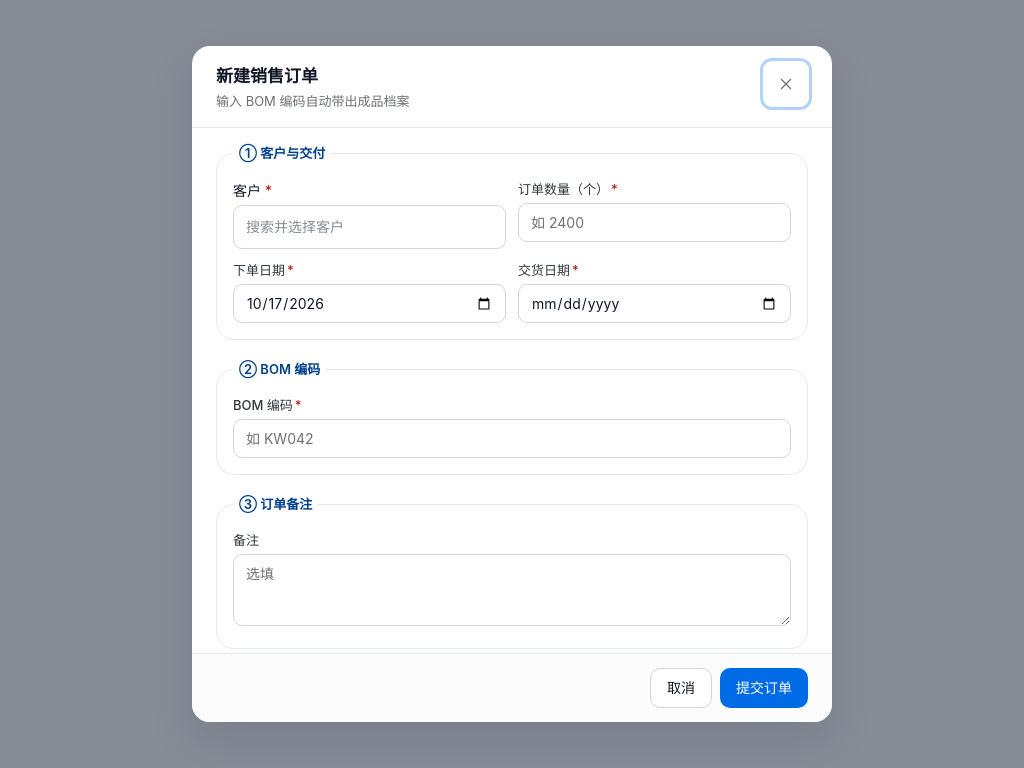
Test: 编码失配：输入即出现中性核对提示，提交被拦截且不发起请求
Type "KW9999" into the field labelled "BOM 编码*".
click(512, 439); type("KW9999")  # box 233,419 -> 791,458
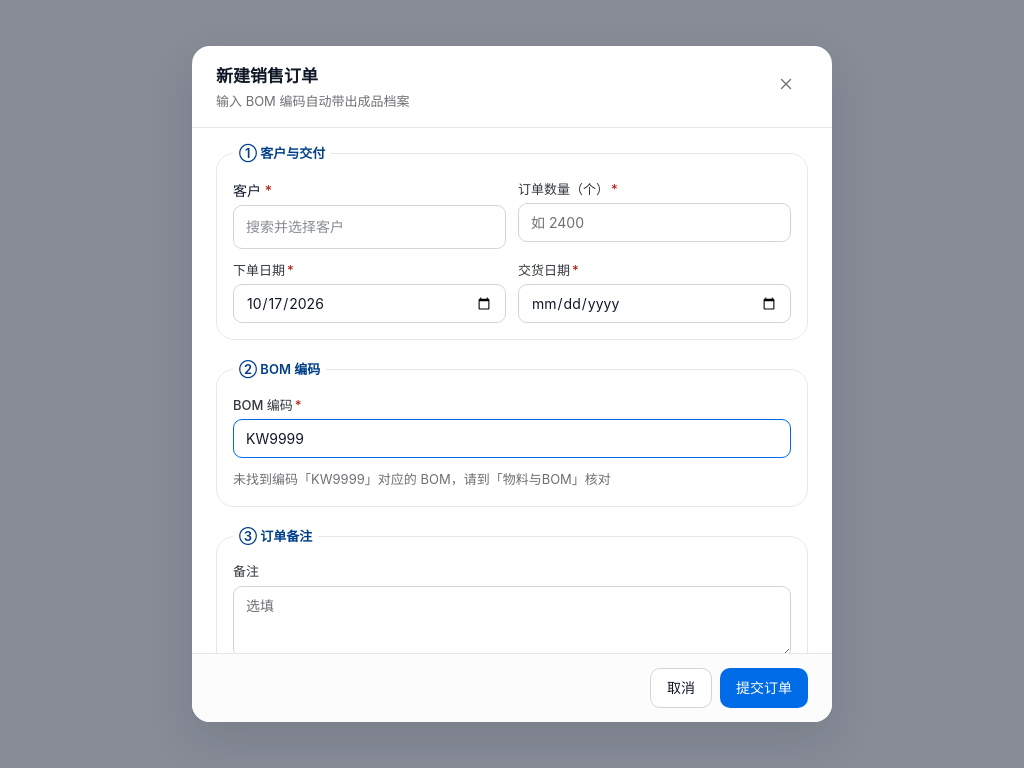
Now the text "未找到编码「KW9999」对应的 BOM，请到「物料与BOM」核对" is shown, box 233,471 -> 611,487
Click the button "提交订单".
click(764, 688)  # box 720,668 -> 808,708
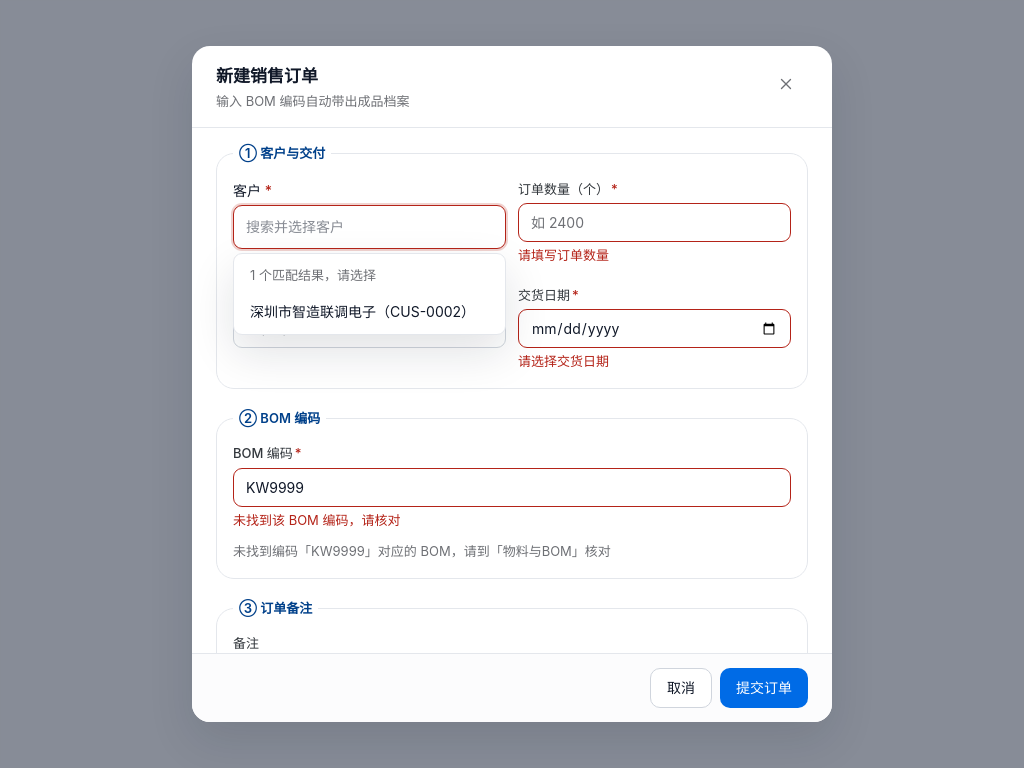
Now the text "未找到该 BOM 编码，请核对" is shown, box 233,512 -> 400,528
